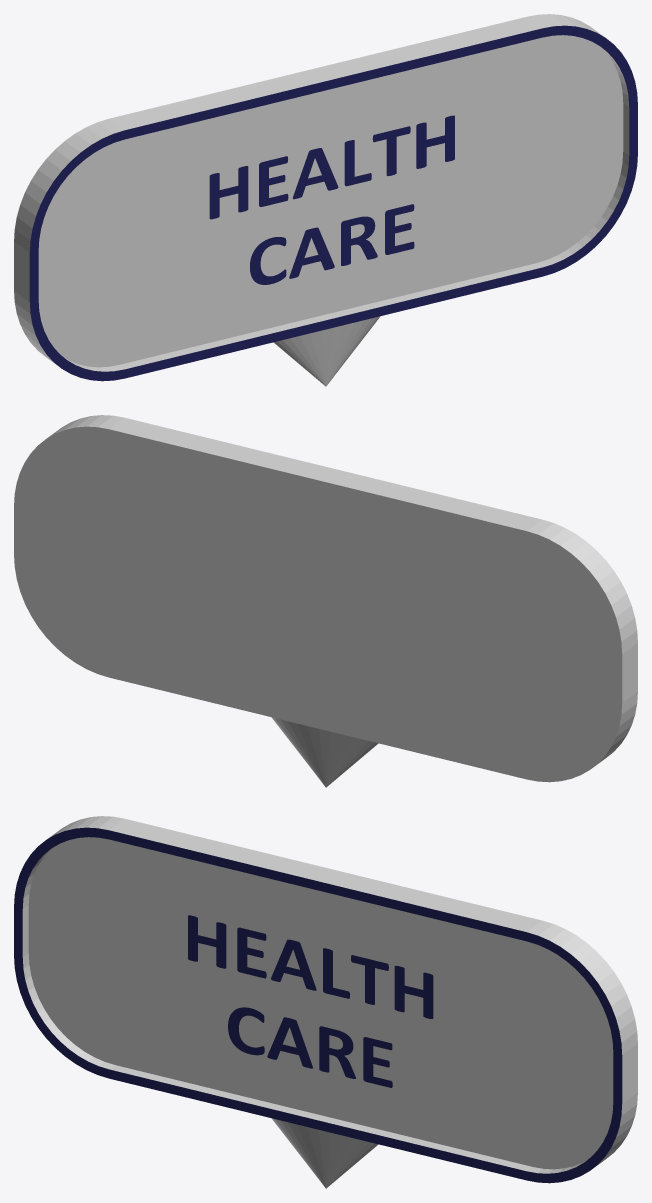
Rendered from HealthCareDefault.glb.
The picture shows the model from 3 angles, top to bottom: view 1: azimuth 30°, elevation 25°; view 2: azimuth 150°, elevation 25°; view 3: azimuth 330°, elevation 25°; orthographic projection.
Visible parts, largest first — view 1: 立方体, 立方体.001, 立方体.002, 文本, 立方体.004; view 2: 立方体, 立方体.003, 立方体.002, 立方体.004; view 3: 立方体, 立方体.001, 立方体.002, 文本, 立方体.004.
Part boxes in pixels (x1=…): 立方体: x1=38, y1=35, x2=629, y2=371; 立方体.001: x1=29, y1=25, x2=637, y2=381; 立方体.002: x1=14, y1=14, x2=603, y2=366; 文本: x1=209, y1=115, x2=454, y2=284; 立方体.004: x1=273, y1=316, x2=380, y2=386; 立方体: x1=21, y1=434, x2=614, y2=774; 立方体.003: x1=14, y1=426, x2=622, y2=782; 立方体.002: x1=48, y1=415, x2=637, y2=767; 立方体.004: x1=271, y1=717, x2=378, y2=787; 立方体: x1=22, y1=837, x2=613, y2=1173; 立方体.001: x1=14, y1=827, x2=622, y2=1183; 立方体.002: x1=48, y1=816, x2=637, y2=1168; 文本: x1=188, y1=915, x2=433, y2=1087; 立方体.004: x1=271, y1=1118, x2=378, y2=1188.
Size of the model in its own units: 5.13 by 2.52 by 0.2745.
